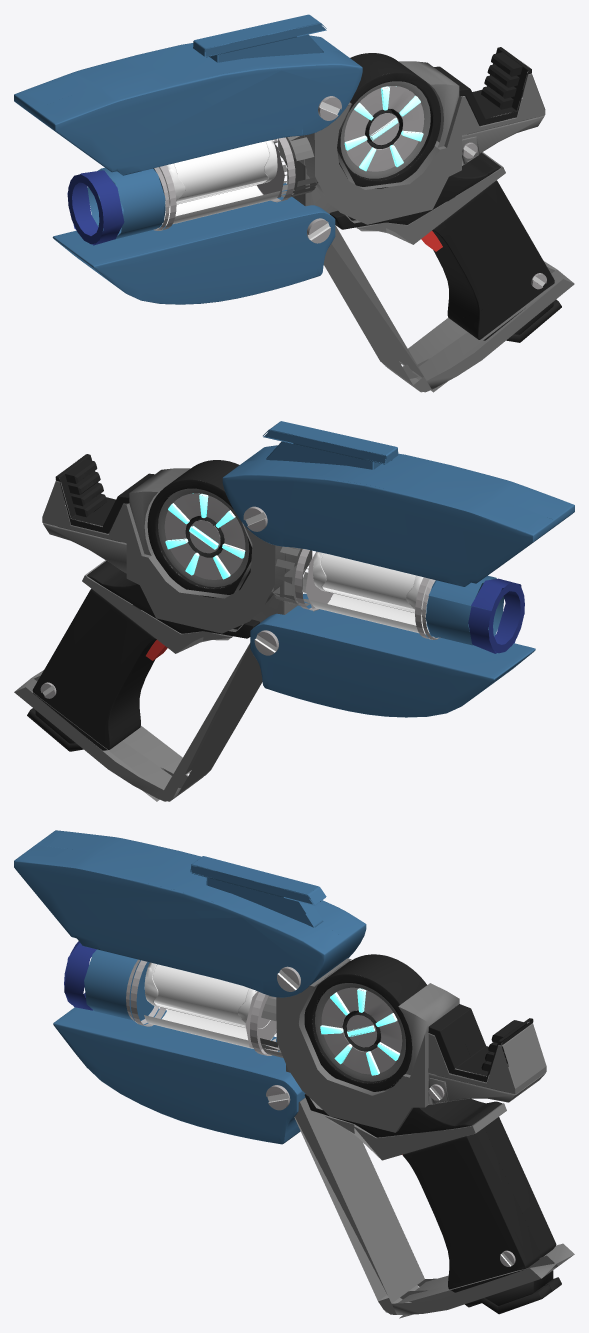
Rendered from x-duty.glb.
The picture shows the model from 3 angles, top to bottom: view 1: azimuth 30°, elevation 25°; view 2: azimuth 150°, elevation 25°; view 3: azimuth 330°, elevation 25°; orthographic projection.
Parts seen in each view (by area): view 1: Cube_10, Cube.001_11, Cube.006_0, Cube.010_3, Cube.002_22, Cylinder.014_17, Cylinder.008_27, Cylinder.006_16, Cylinder.004_25, Cube.014_19, Cube.011_4, Cube.007_1 (+14 smaller); view 2: Cube_10, Cube.001_11, Cube.006_0, Cube.010_3, Cube.002_22, Cylinder.014_17, Cylinder.008_27, Cylinder.004_25, Cylinder.006_16, Cube.014_19, Cube.011_4, Cube.007_1 (+14 smaller); view 3: Cube_10, Cube.001_11, Cube.006_0, Cube.010_3, Cube.002_22, Cylinder.004_25, Cylinder.014_17, Cylinder.008_27, Cube.013_31, Cylinder.006_16, Cube.015_32, Cube.007_1 (+13 smaller).
Part boxes in pixels (x1,y1,x2,y2): Cube_10: (14,35,362,175); Cube.001_11: (52,183,335,304); Cube.006_0: (432,180,554,340); Cube.010_3: (323,225,574,392); Cube.002_22: (278,81,461,224); Cylinder.014_17: (67,168,165,245); Cylinder.008_27: (344,86,424,171); Cylinder.006_16: (154,141,269,201); Cylinder.004_25: (337,53,440,188); Cube.014_19: (193,14,326,57); Cube.011_4: (356,152,505,244); Cube.007_1: (329,152,500,229); Cube_10: (222,445,574,586); Cube.001_11: (250,593,535,717); Cube.006_0: (32,588,156,750); Cube.010_3: (14,643,262,801); Cube.002_22: (126,488,312,633); Cylinder.014_17: (425,575,524,653); Cylinder.008_27: (164,493,245,579); Cylinder.004_25: (147,460,252,597); Cylinder.006_16: (321,553,435,609); Cube.014_19: (263,421,398,464); Cube.011_4: (82,560,232,653); Cube.007_1: (87,561,259,638); Cube_10: (14,830,366,997); Cube.001_11: (53,1007,305,1144); Cube.006_0: (402,1117,556,1292); Cube.010_3: (294,1097,574,1318); Cube.002_22: (276,958,444,1132); Cylinder.004_25: (304,954,426,1091); Cylinder.014_17: (64,941,157,1020); Cylinder.008_27: (321,987,402,1074); Cube.013_31: (428,1023,546,1094); Cylinder.006_16: (152,964,248,1025); Cube.015_32: (428,1004,533,1082); Cube.007_1: (304,1094,501,1137).
Bounding box in the file's own units: 19.43 × 13.83 × 2.96.
